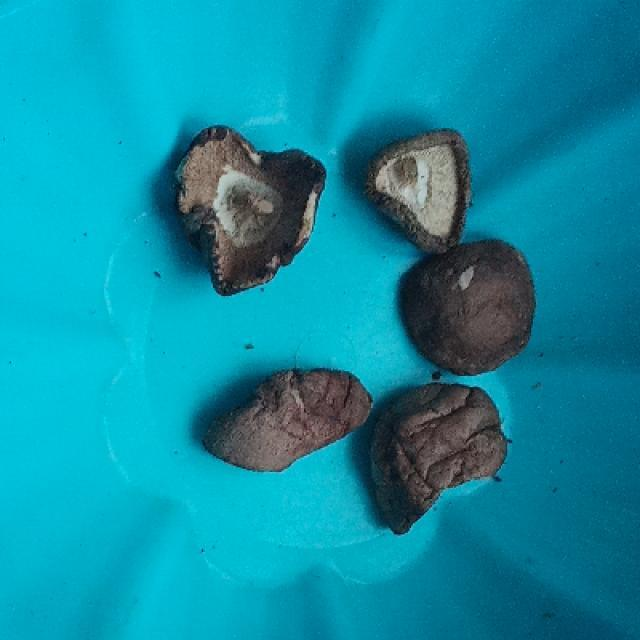Lentinus edodes: (173, 129, 329, 299), (357, 385, 509, 534), (399, 239, 540, 377), (208, 371, 370, 472), (370, 127, 470, 246)
